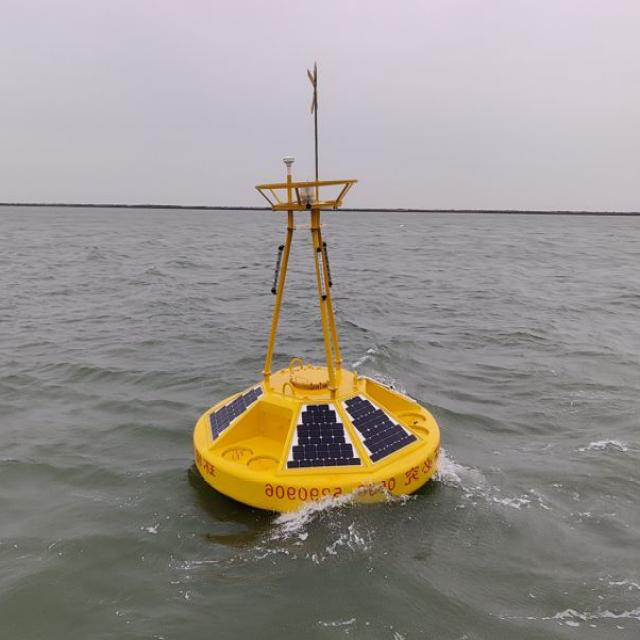buoy: (189, 140, 446, 510)
